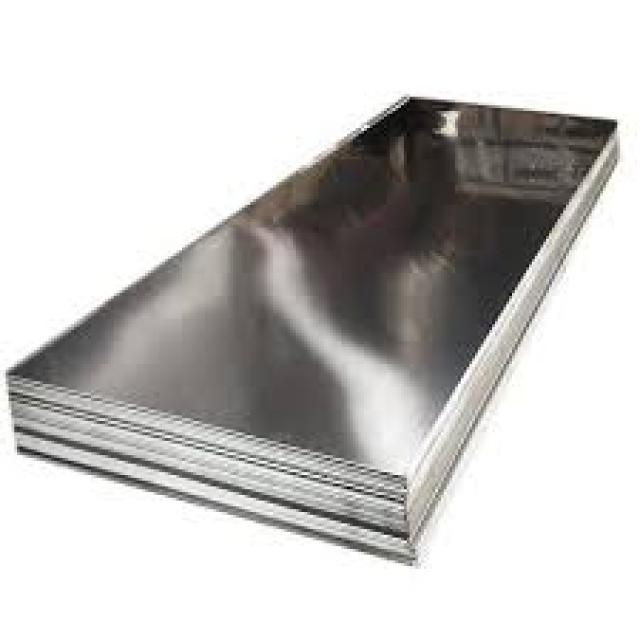Dry: (11, 97, 617, 563)
